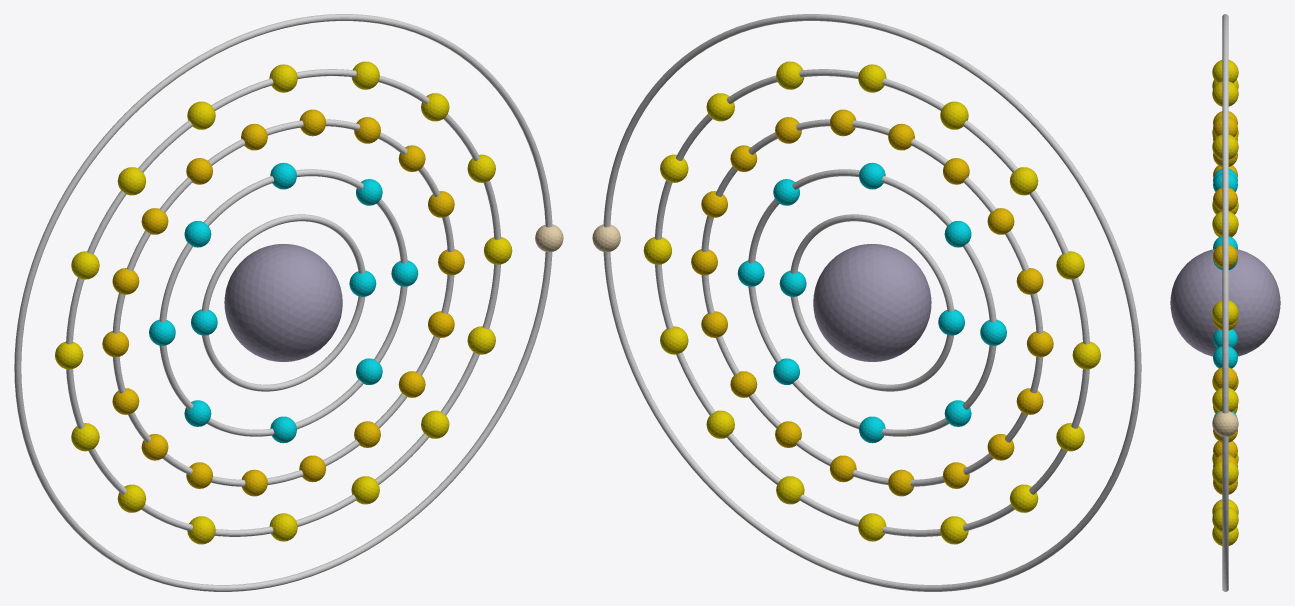
The picture shows the model from 3 angles, left to right: view 1: azimuth 30°, elevation 25°; view 2: azimuth 150°, elevation 25°; view 3: azimuth 270°, elevation 25°; orthographic projection. The views are drawn at different scales.
Parts seen in each view (by area): view 1: Camada_5, Nucleo_Rh, Camada_4, Camada_3, Camada_2, Camada_1; view 2: Camada_5, Nucleo_Rh, Camada_4, Camada_3, Camada_2, Camada_1; view 3: Nucleo_Rh, Camada_5, e5_1, e4_2, e4_5, e4_16, e4_3, e4_4, e4_15, e4_1, e4_6, e3_4 (+10 smaller).
Part boxes in pixels (bbox=[...]): Camada_5: bbox=[14, 14, 552, 591]; Nucleo_Rh: bbox=[224, 244, 342, 361]; Camada_4: bbox=[66, 69, 500, 536]; Camada_3: bbox=[112, 119, 454, 486]; Camada_2: bbox=[159, 169, 407, 436]; Camada_1: bbox=[201, 214, 365, 391]; Camada_5: bbox=[603, 14, 1141, 591]; Nucleo_Rh: bbox=[813, 244, 931, 361]; Camada_4: bbox=[655, 69, 1089, 536]; Camada_3: bbox=[701, 119, 1043, 486]; Camada_2: bbox=[748, 169, 996, 436]; Camada_1: bbox=[790, 214, 954, 391]; Nucleo_Rh: bbox=[1170, 249, 1280, 356]; Camada_5: bbox=[1222, 14, 1228, 591]; e5_1: bbox=[1212, 411, 1238, 436]; e4_2: bbox=[1212, 300, 1238, 325]; e4_5: bbox=[1212, 81, 1238, 106]; e4_16: bbox=[1212, 460, 1238, 485]; e4_3: bbox=[1212, 211, 1238, 236]; e4_4: bbox=[1212, 134, 1238, 159]; e4_15: bbox=[1212, 507, 1238, 532]; e4_1: bbox=[1212, 388, 1238, 411]; e4_6: bbox=[1212, 60, 1238, 82]; e3_4: bbox=[1213, 187, 1237, 211].
Size of the model in its own units: 2.35 by 2.31 by 0.44.
